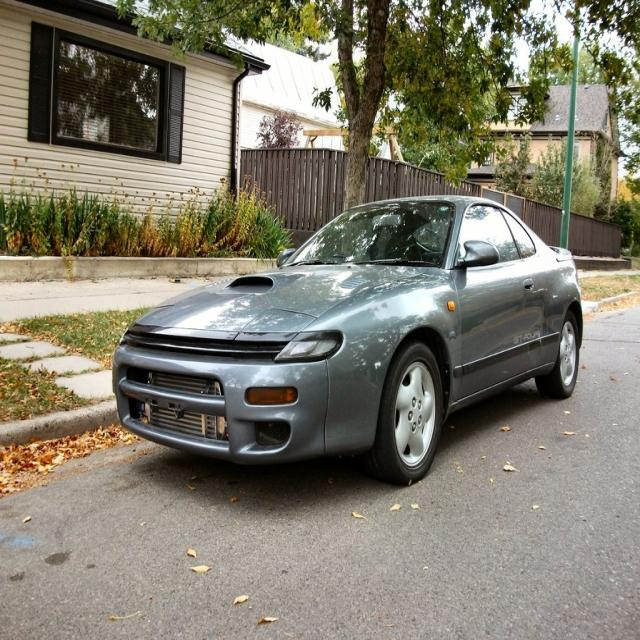car: (111, 197, 581, 482)
